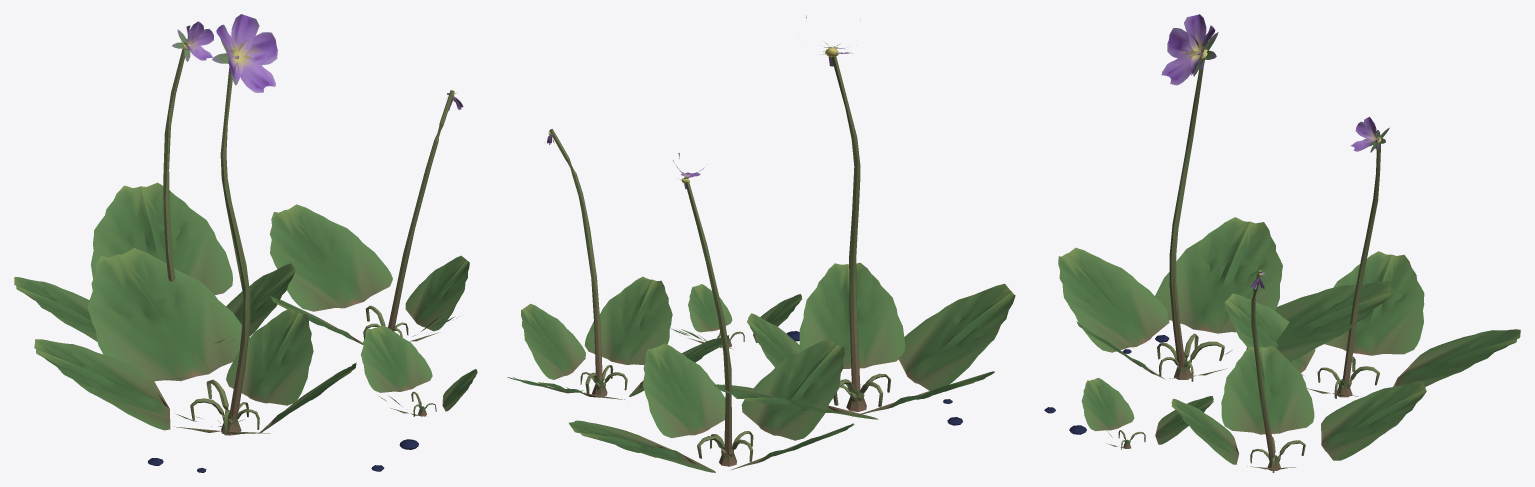
File: FinaleBloom_m.glb
3 views of the same model, side by side, from view 1: azimuth 30°, elevation 25°; view 2: azimuth 150°, elevation 25°; view 3: azimuth 270°, elevation 25° (orthographic). The views are drawn at different scales.
Parts seen in each view (by area): view 1: FinaleBloom.001; view 2: FinaleBloom.001; view 3: FinaleBloom.001.
Boxes of the visible parts, left/top/right/bottom form: FinaleBloom.001: left=14, top=14, right=477, bottom=472; FinaleBloom.001: left=507, top=15, right=1015, bottom=472; FinaleBloom.001: left=1044, top=14, right=1520, bottom=472.
Bounding box in the file's own units: 0.1338 × 0.1152 × 0.1361.
